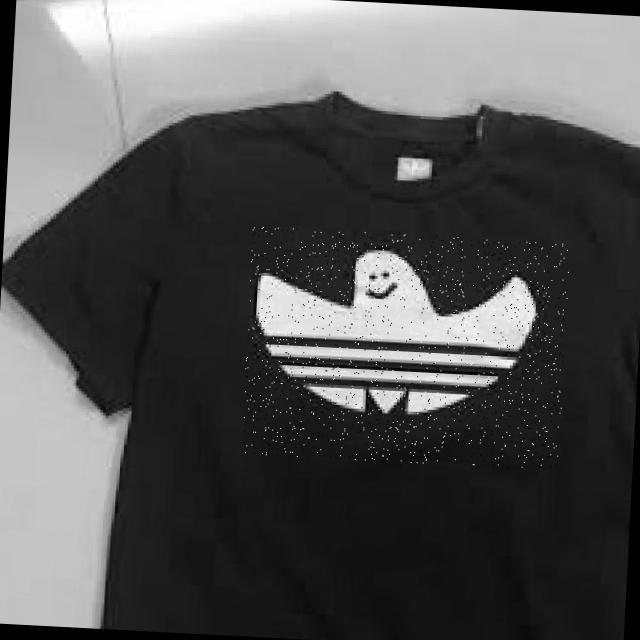Adidas: (241, 227, 571, 471)
